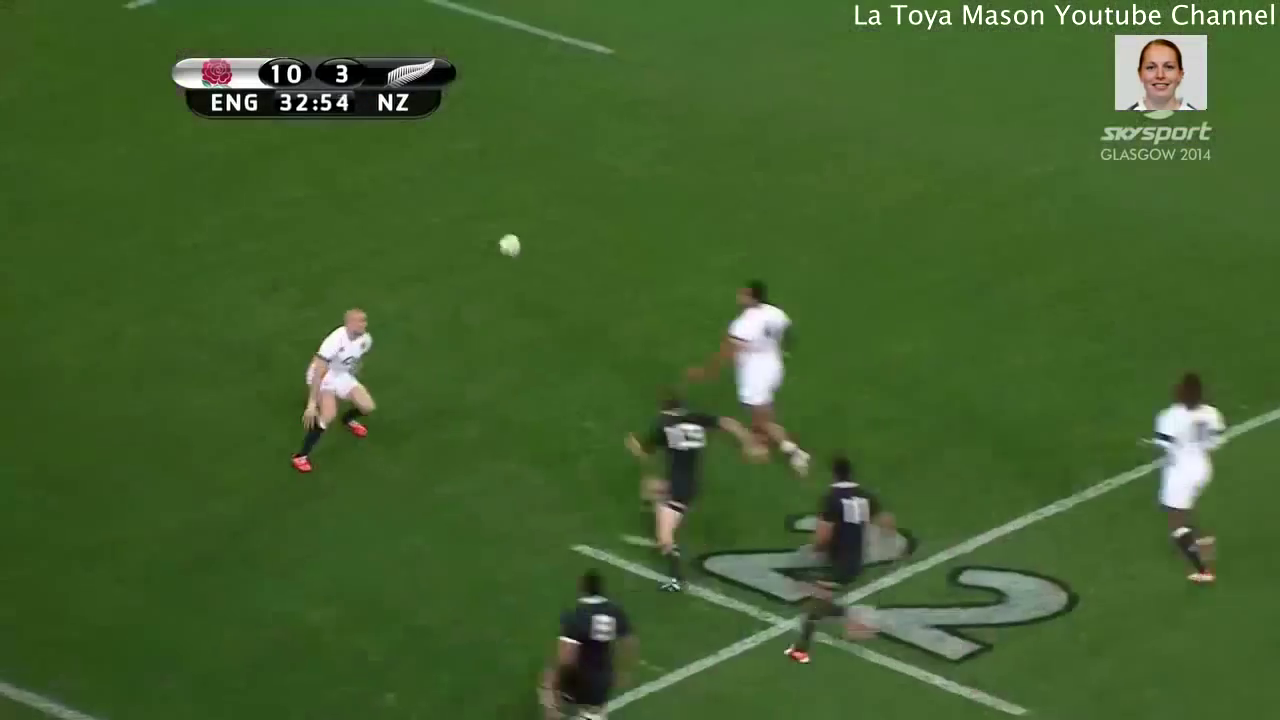ball: (489, 221, 537, 277)
player: (600, 383, 763, 607), (670, 265, 830, 486), (770, 444, 889, 671), (1136, 363, 1238, 607), (269, 296, 391, 484), (521, 561, 648, 720)
